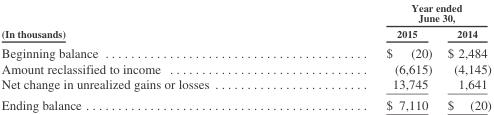table: (0, 1, 490, 111)
table column: (0, 1, 296, 111), (296, 1, 439, 111), (439, 1, 490, 111)
table column header: (0, 1, 490, 42)
table row: (0, 1, 490, 25), (0, 42, 490, 60), (0, 76, 490, 94), (0, 25, 490, 42), (0, 94, 490, 111), (0, 60, 490, 76)
table spanning cell: (0, 1, 296, 42), (296, 1, 490, 25)
